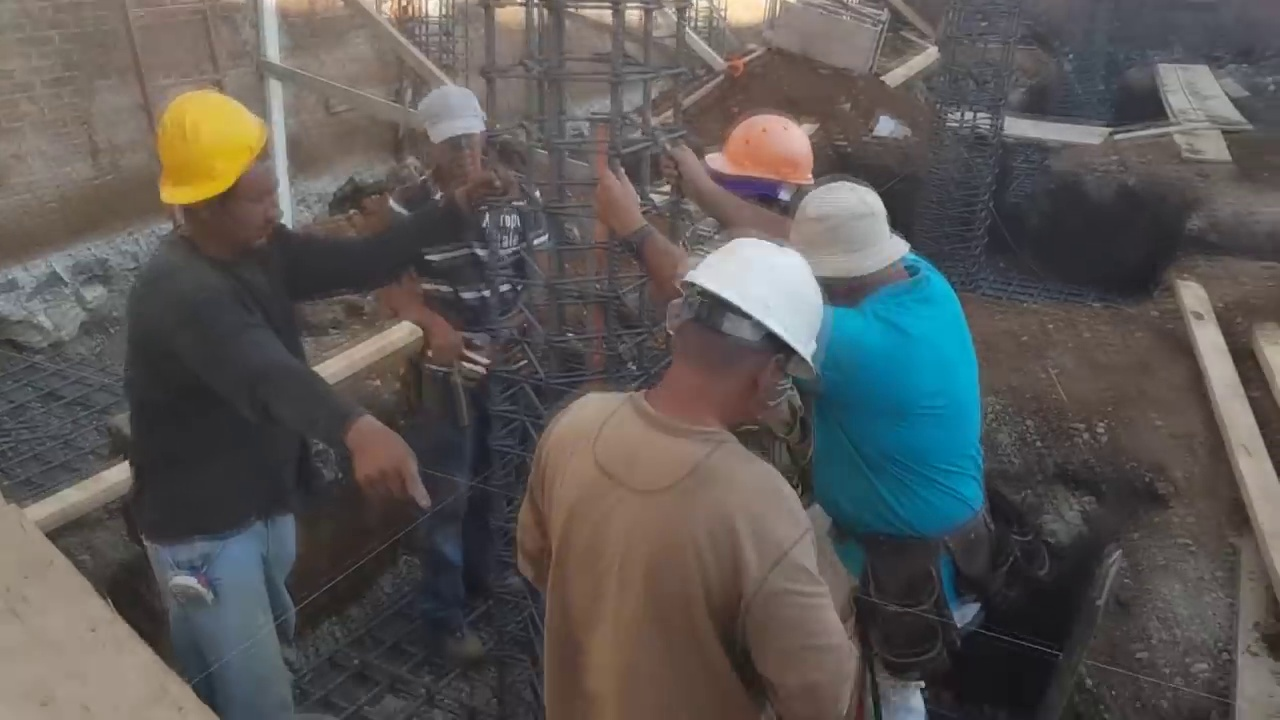helmet: (684, 236, 826, 383), (144, 88, 265, 210), (715, 109, 822, 192)
helmet-off: (790, 175, 913, 309), (415, 86, 492, 182)
helmet-on: (633, 235, 825, 435), (139, 78, 286, 264)
person: (595, 144, 987, 714), (115, 84, 428, 720), (519, 233, 865, 720), (376, 84, 546, 666), (652, 107, 842, 283)
